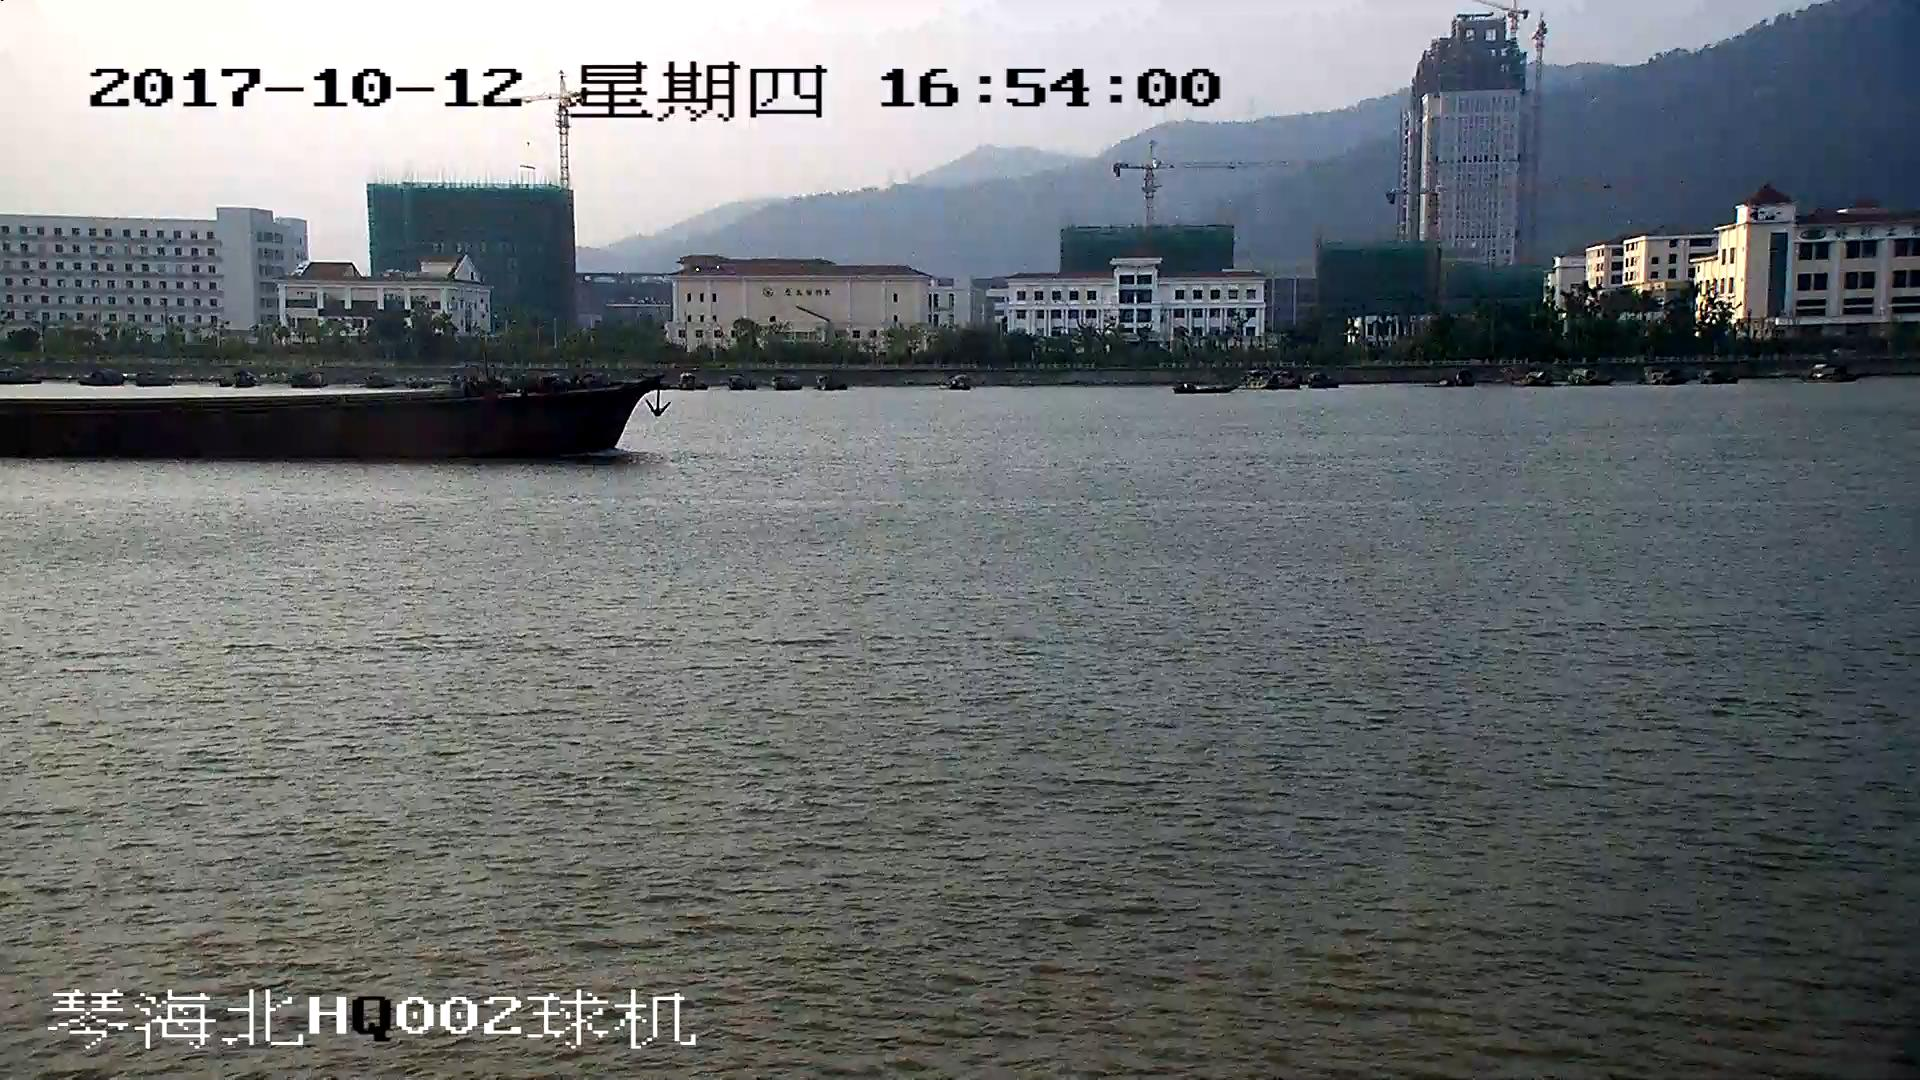bulk cargo carrier: (1, 376, 661, 459)
